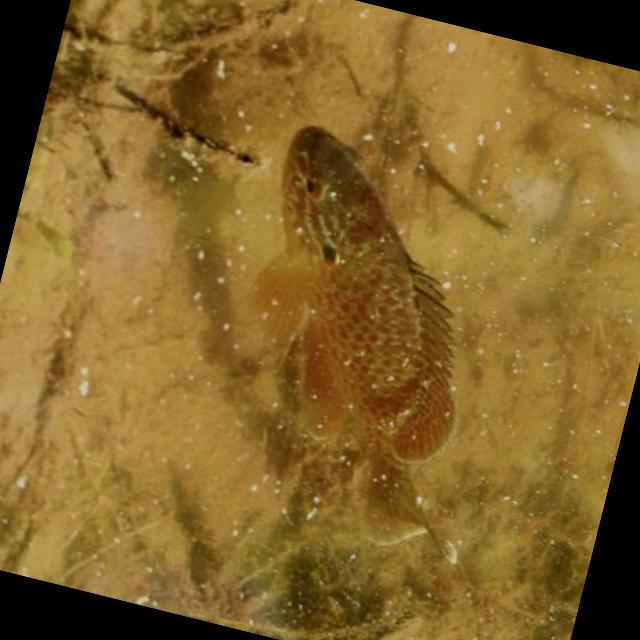Gunes Levregi: (157, 106, 530, 566)
